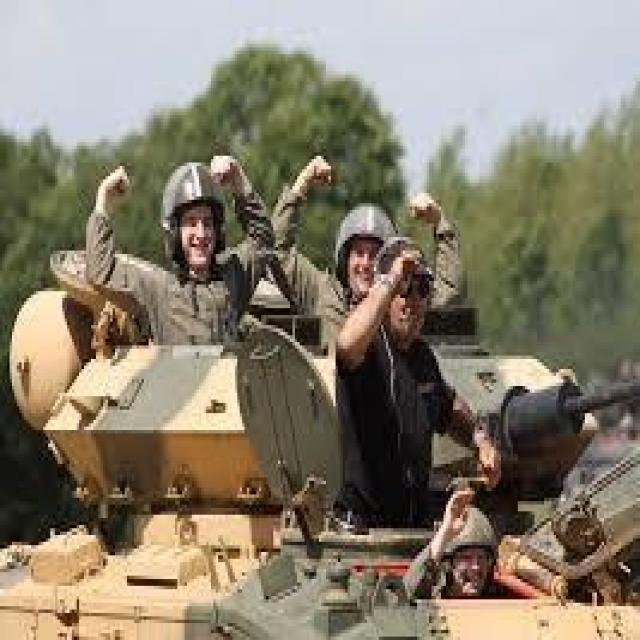Tanks: (17, 109, 575, 634)
